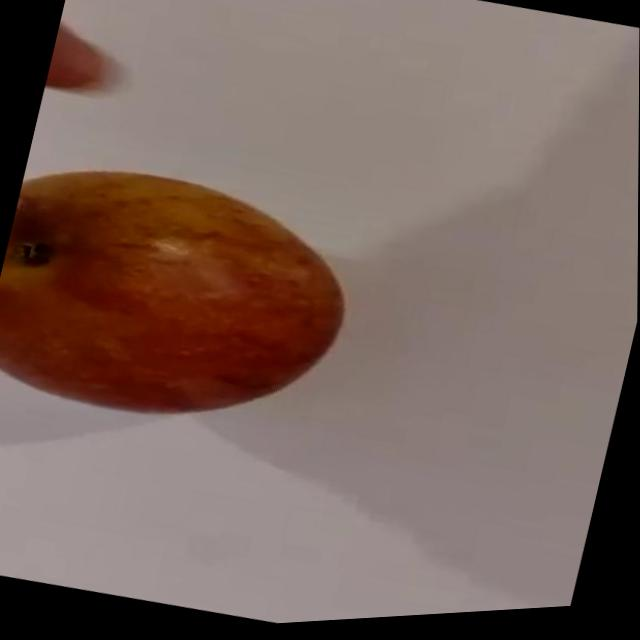Apple: (0, 137, 369, 464)
